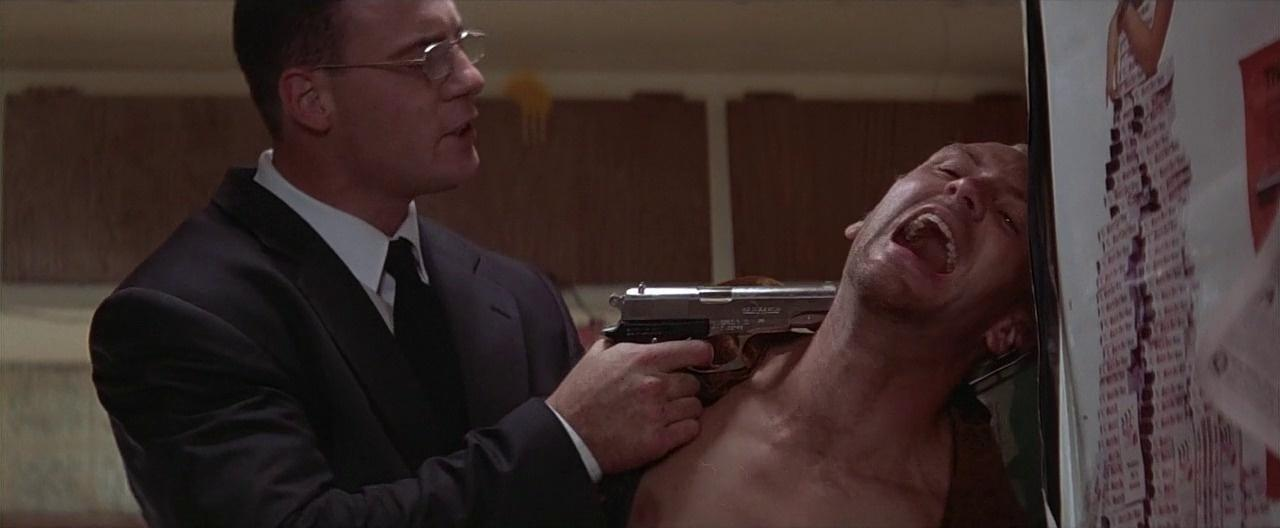gun: (592, 269, 840, 471)
